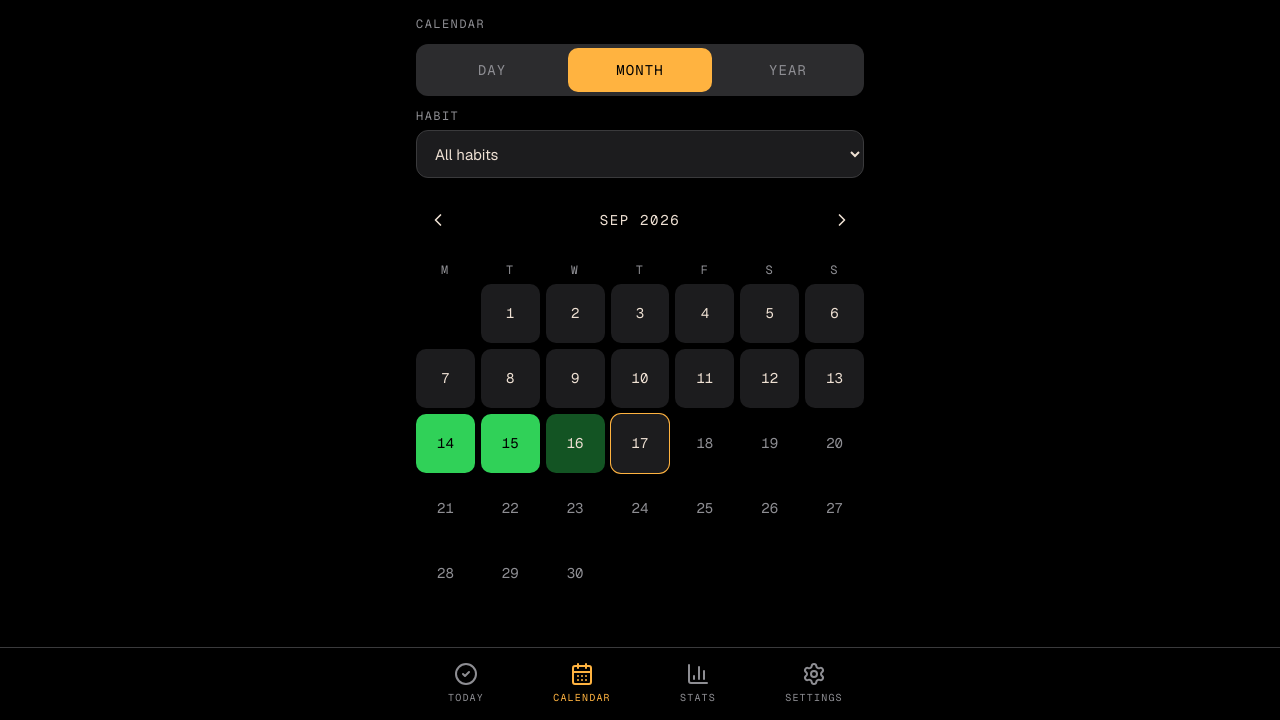
Scenario: Calendar › filters the shading to one habit
Expected: the button named "MON · 14 SEP:" is shown, [416,414,475,472]
Select "Gym" in the dropdown labelled "HABIT". click: (640, 154)
box: [416,130,864,178]
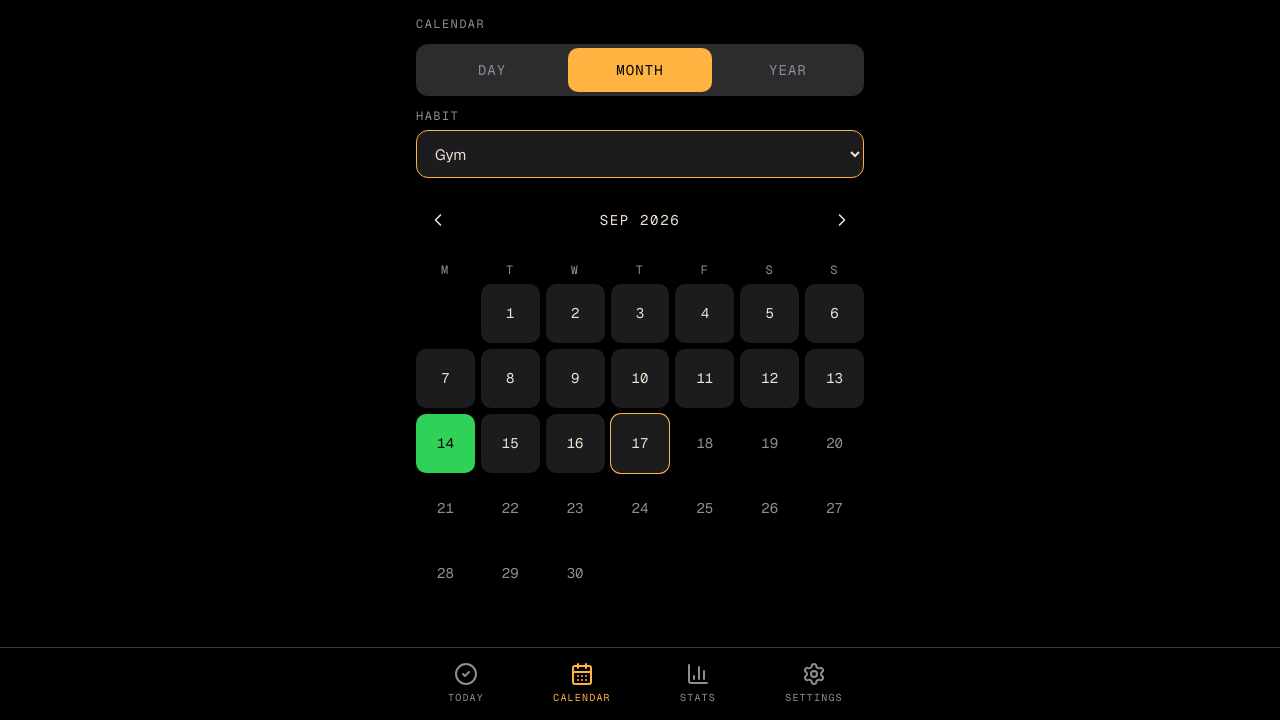
Expected: the button named "TUE · 15 SEP: nothing due" is shown, [481,414,540,473]
